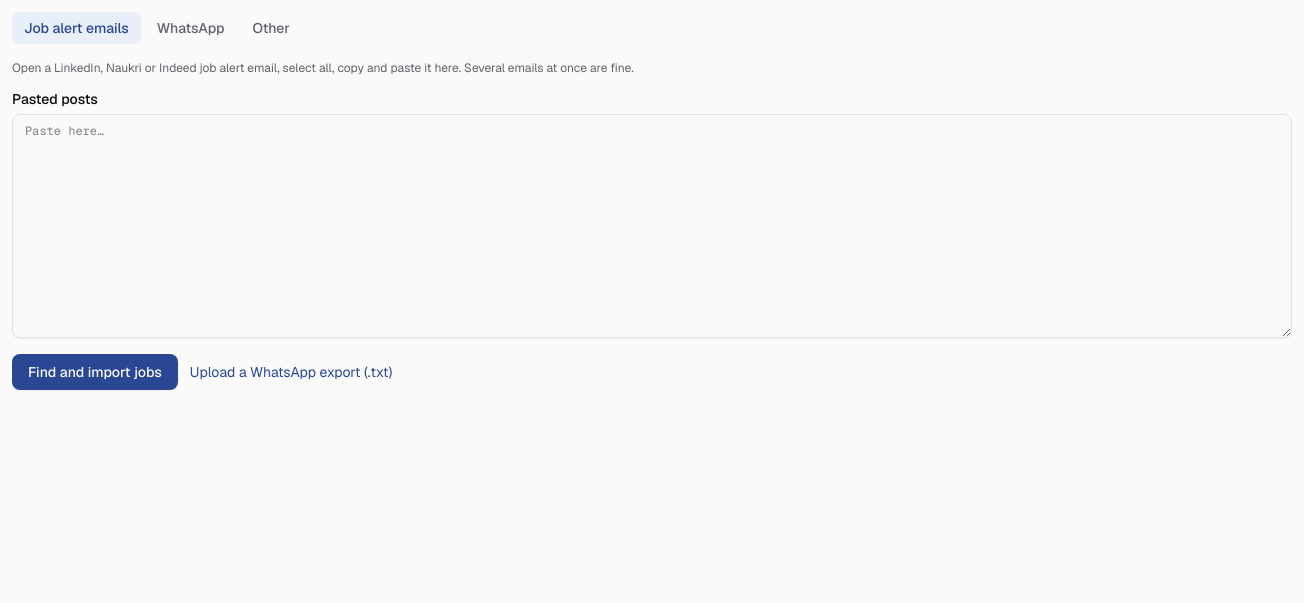
Test case: BulkImportForm › sends the pasted posts with their channel and lists what was found
Click the radio button labelled "WhatsApp" at (191, 28), box [145,12,237,44]
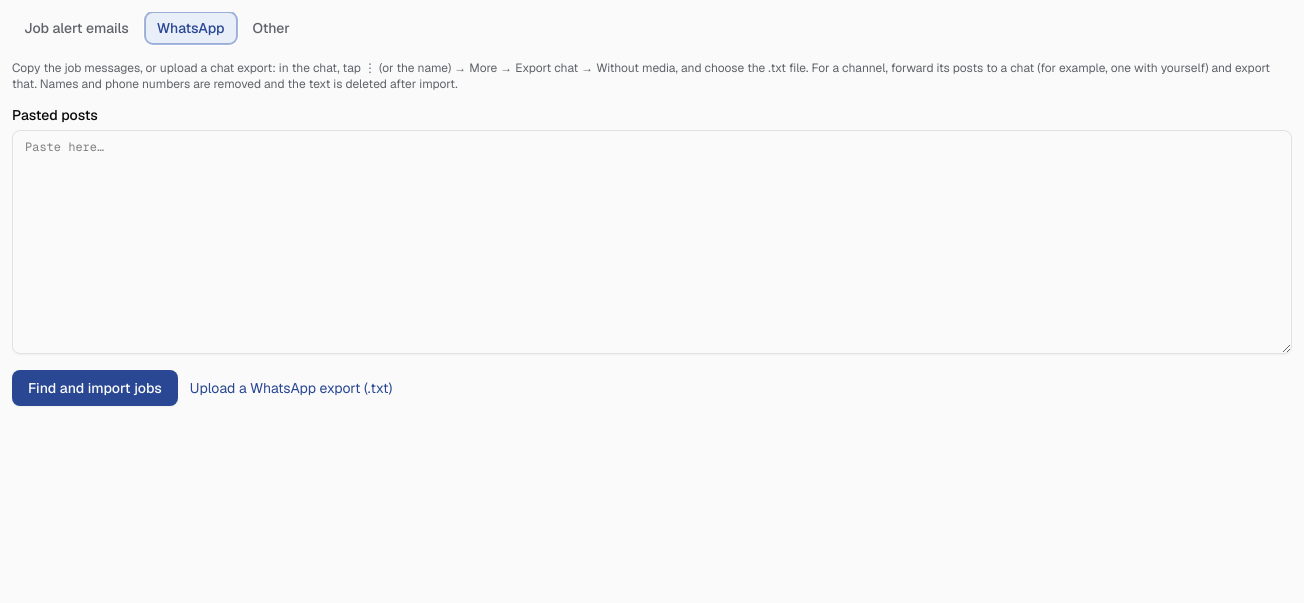
Result: the text "Names and phone numbers are removed" is shown at [12,60,1270,92]
Type "Hiring Python Developer at Acme Cloudworks, apply now" into the text box labelled "Pasted posts" at (652, 242), box [12,130,1292,354]
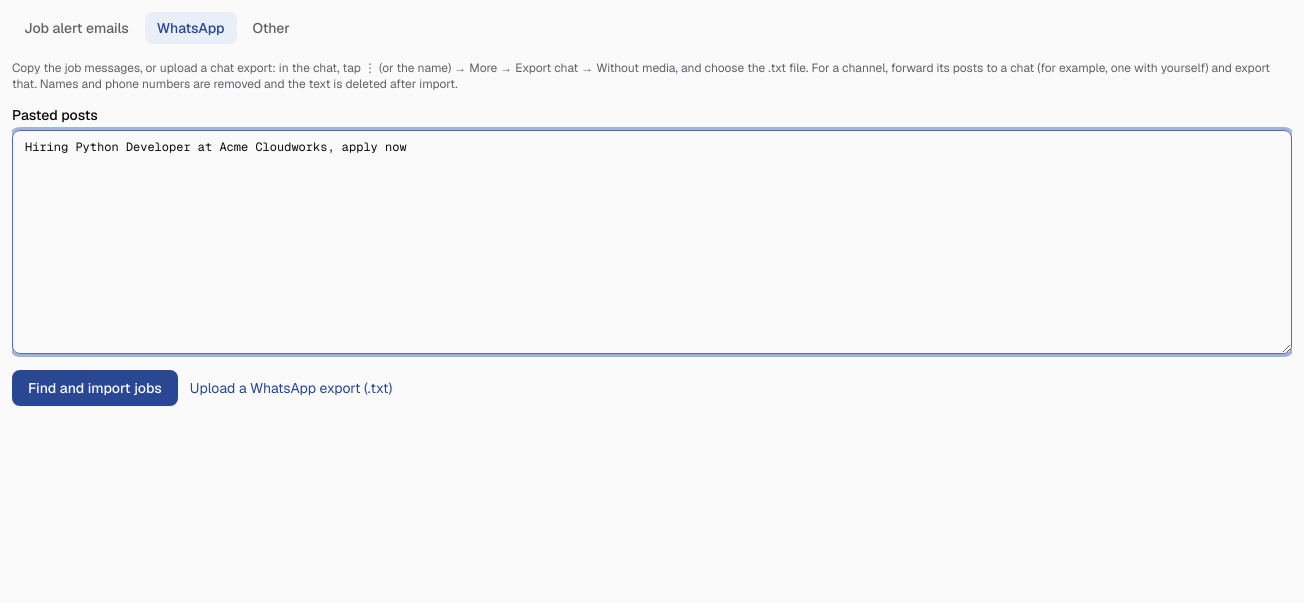
Click the button "Find and import jobs" at (95, 388), box [12,370,178,406]
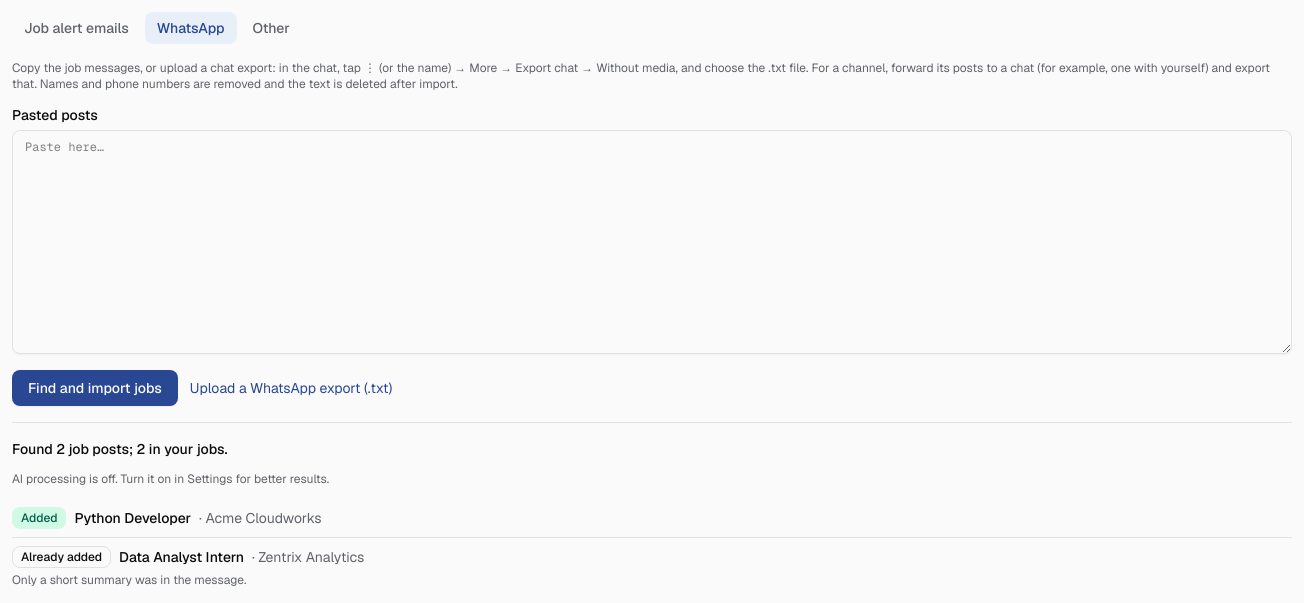
Result: the text "Found 2 job posts; 2 in your jobs." is shown at [12,440,228,458]
Result: the text "Already added" is shown at [12,546,111,568]
Result: the text "AI processing is off" is shown at [12,471,329,487]
